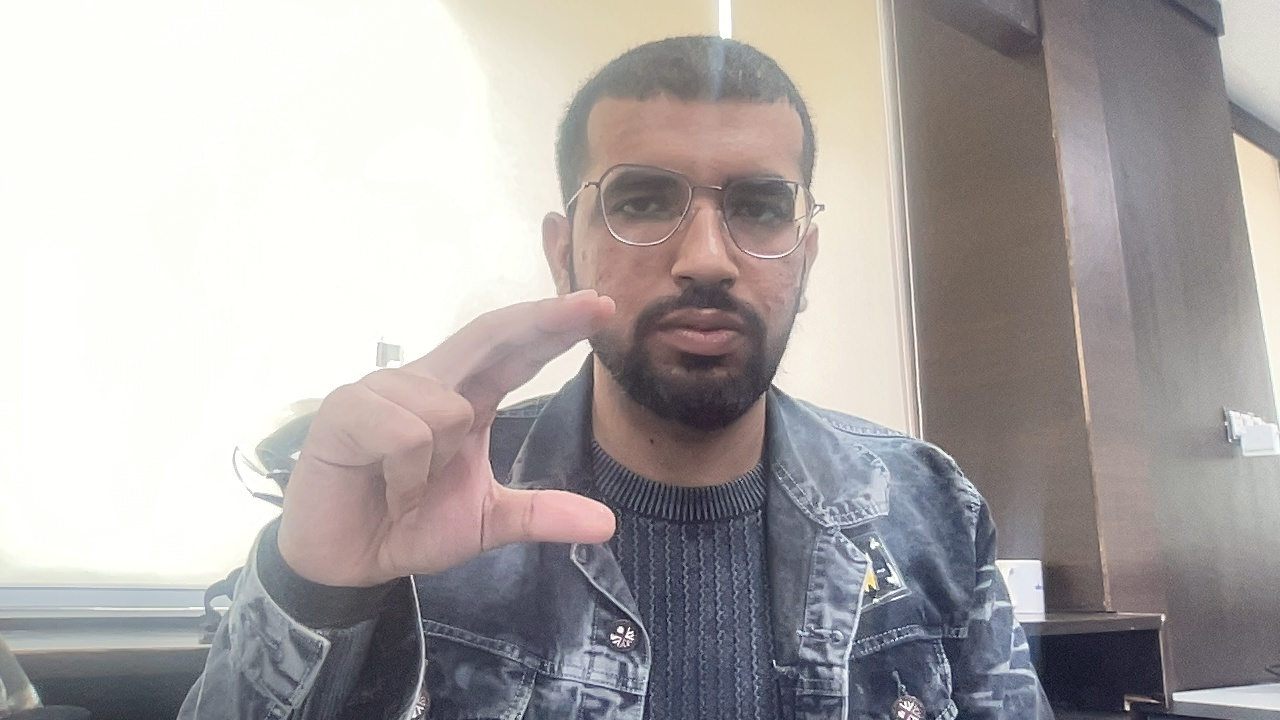No: (288, 277, 694, 617)
